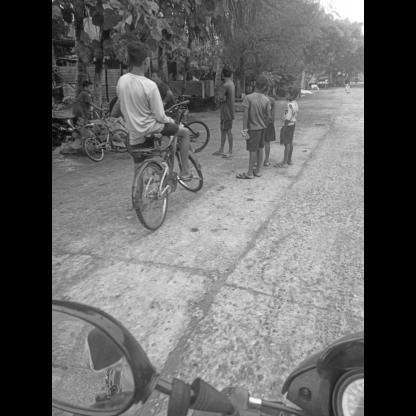Bicycle: (110, 116, 222, 237)
